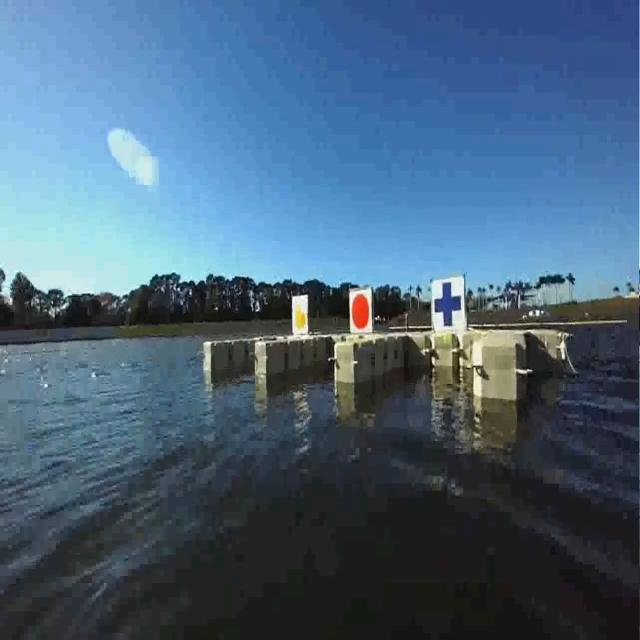blue-cross: (429, 276, 467, 334)
red-dot: (346, 286, 377, 342)
yellow-duck: (292, 294, 308, 338)
